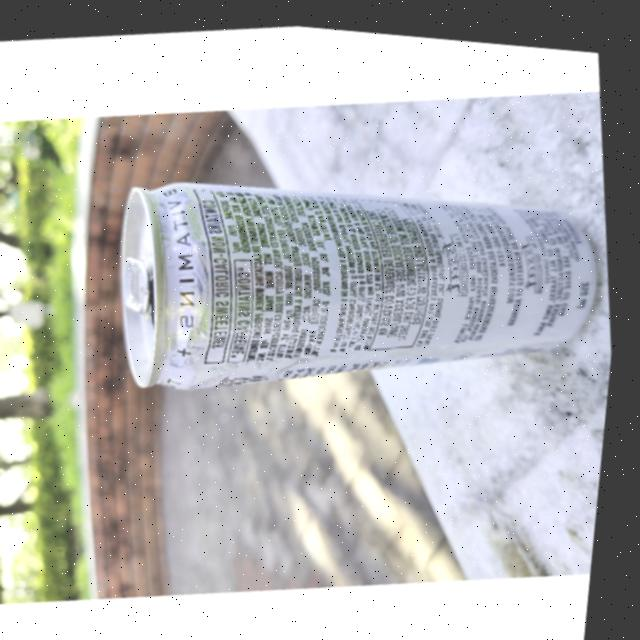White Monster: (97, 112, 632, 437)
